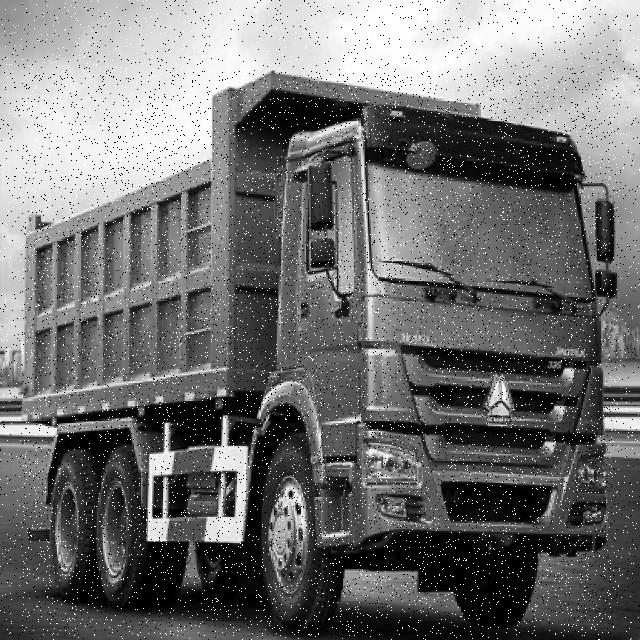Box Truck: (22, 72, 619, 636)
